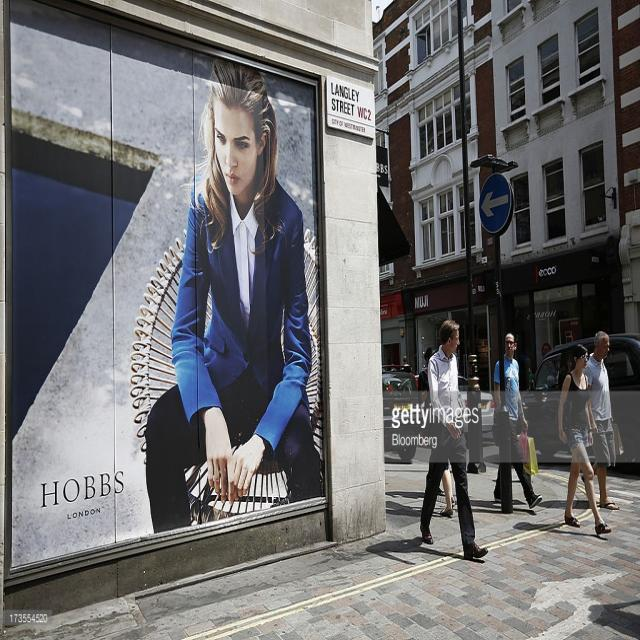body: (143, 48, 326, 532), (418, 317, 489, 562), (557, 340, 613, 538), (491, 326, 544, 513), (580, 330, 624, 512), (417, 344, 447, 500), (522, 343, 574, 397), (398, 354, 412, 374)
